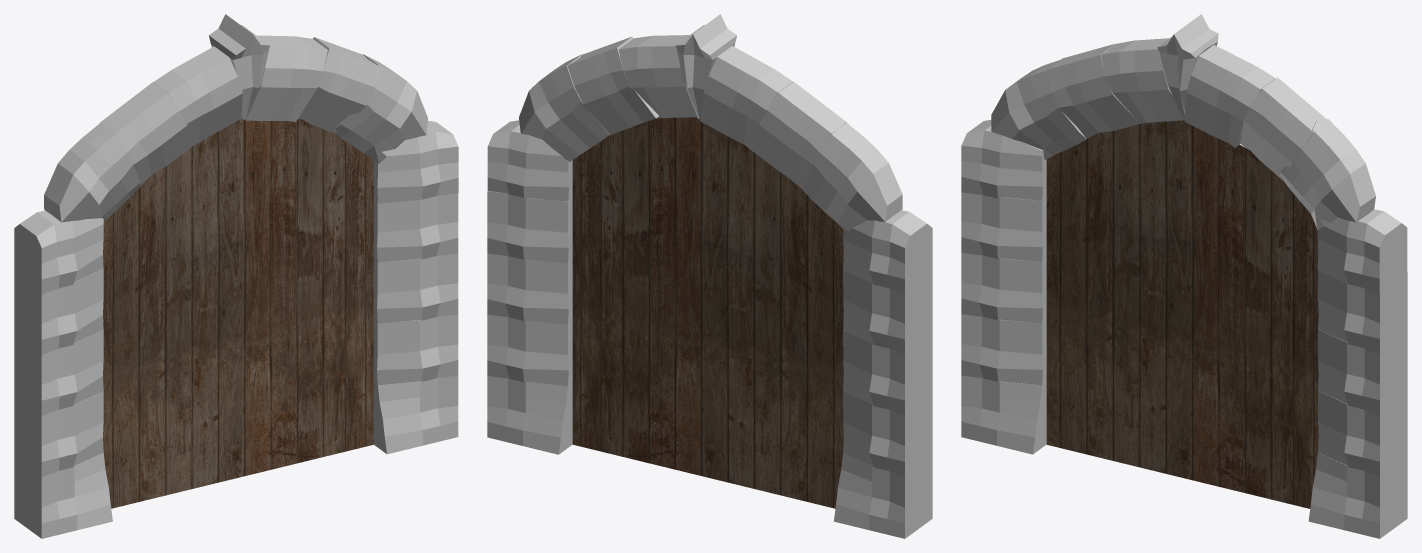
Rendered from Panel.fbx.
3 views of the same model, side by side, from view 1: azimuth 30°, elevation 25°; view 2: azimuth 150°, elevation 25°; view 3: azimuth 330°, elevation 25° (orthographic).
Visible parts, largest first — view 1: Plane, Cube.001; view 2: Cube.001, Plane; view 3: Plane, Cube.001.
Part boxes in pixels (<box>): Plane: <box>103,118,373,508</box>; Cube.001: <box>14,14,458,538</box>; Cube.001: <box>487,14,932,538</box>; Plane: <box>572,117,843,508</box>; Plane: <box>1046,120,1318,508</box>; Cube.001: <box>961,14,1407,538</box>.
Bounding box in the file's own units: 319 × 331 × 37.15.
